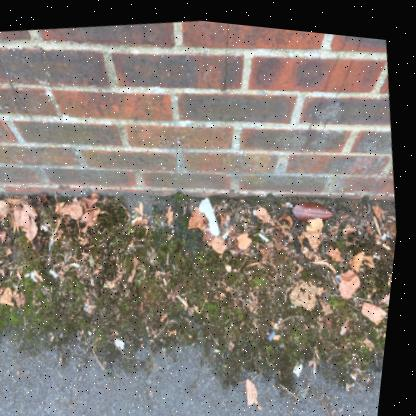Metal: (202, 191, 223, 230)
Plastic: (271, 321, 282, 334)
